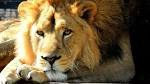lion: (1, 1, 137, 82)
